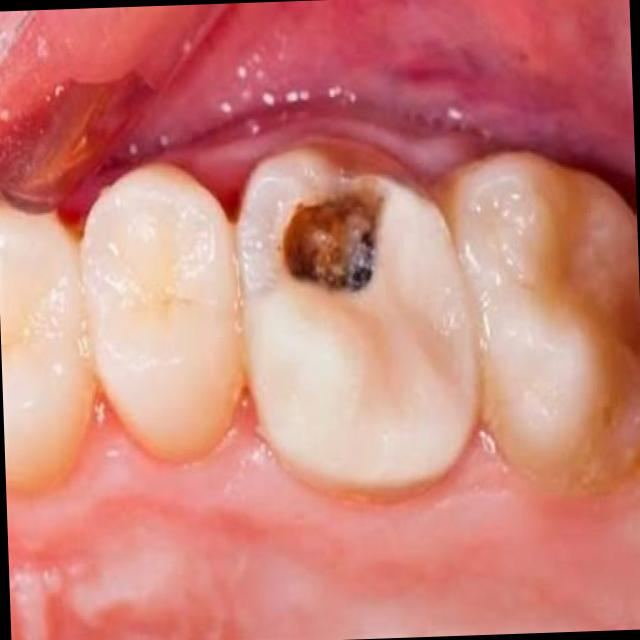Caries: (351, 265, 371, 290), (360, 232, 373, 248)
Cavity: (280, 175, 390, 294)
Tooth: (236, 137, 484, 499), (431, 149, 640, 493), (80, 160, 243, 464), (0, 198, 94, 491)
